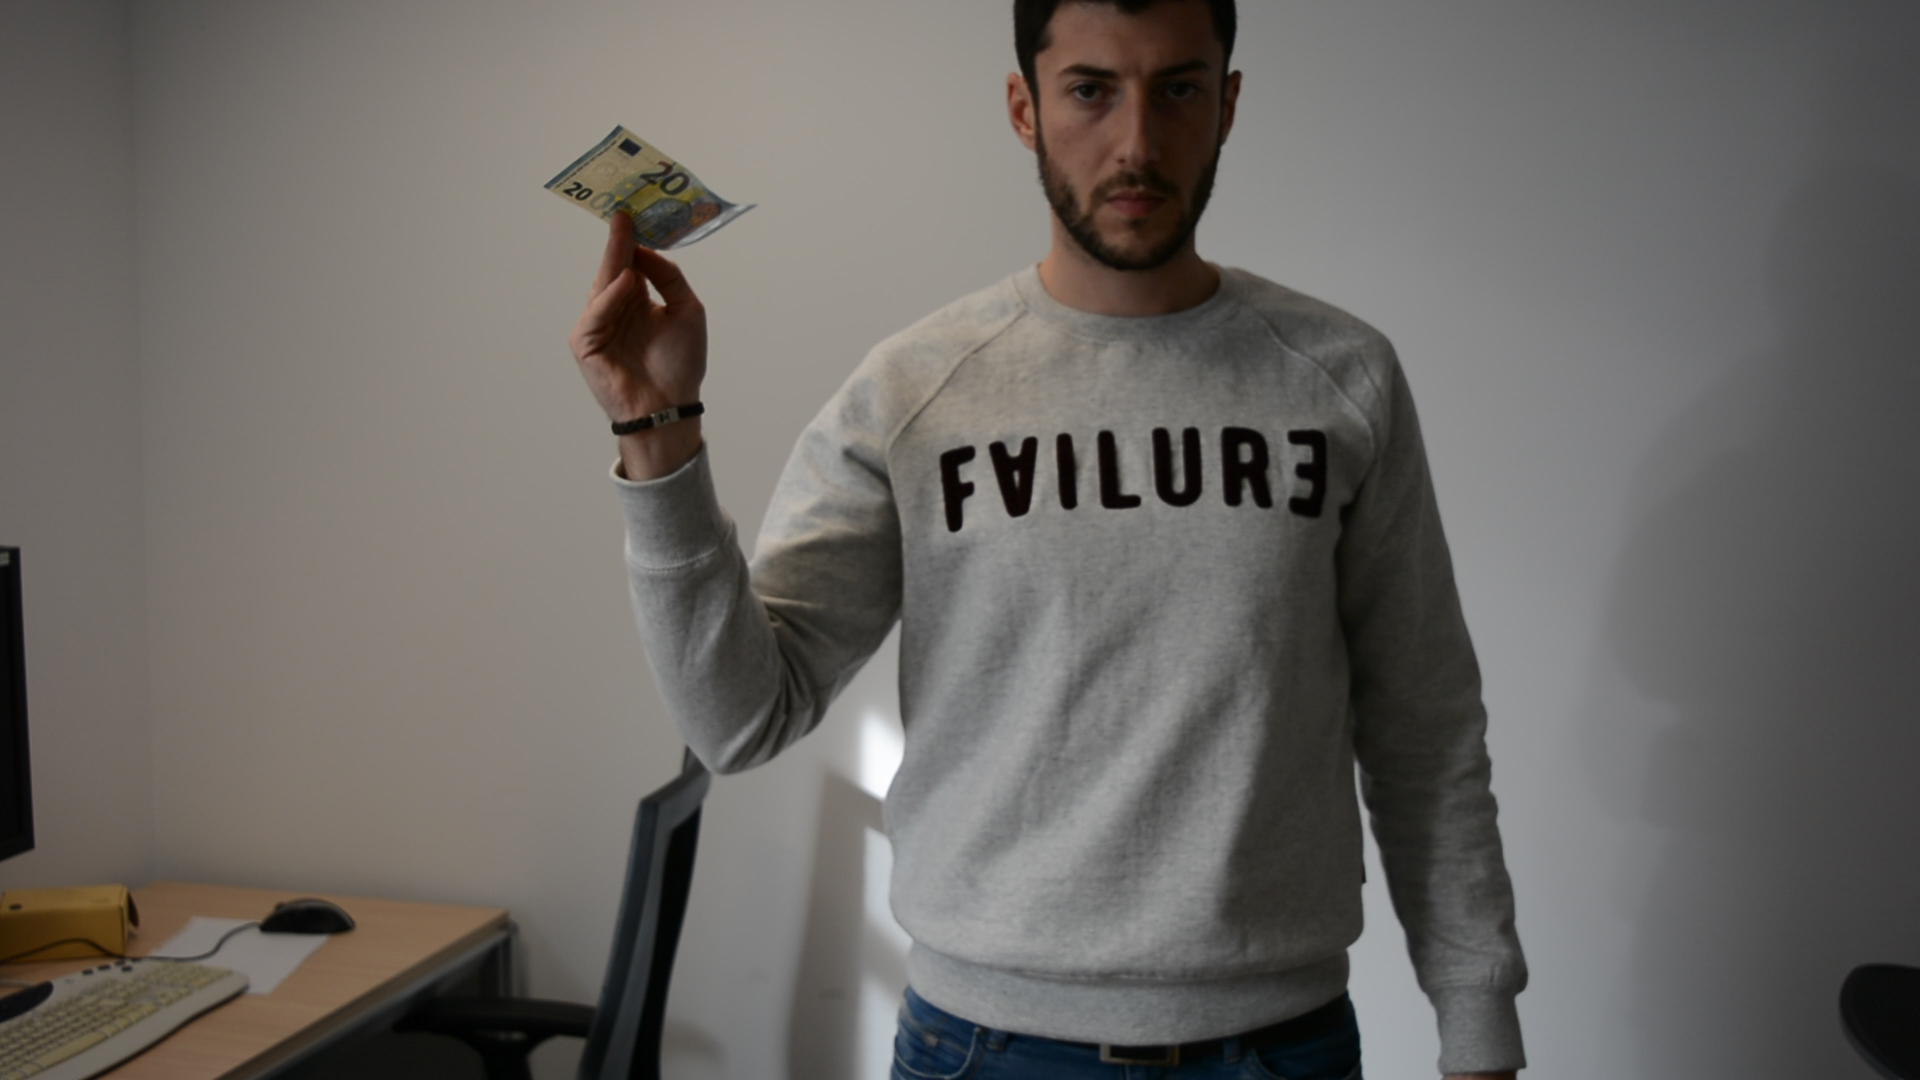billete: (542, 123, 760, 252)
